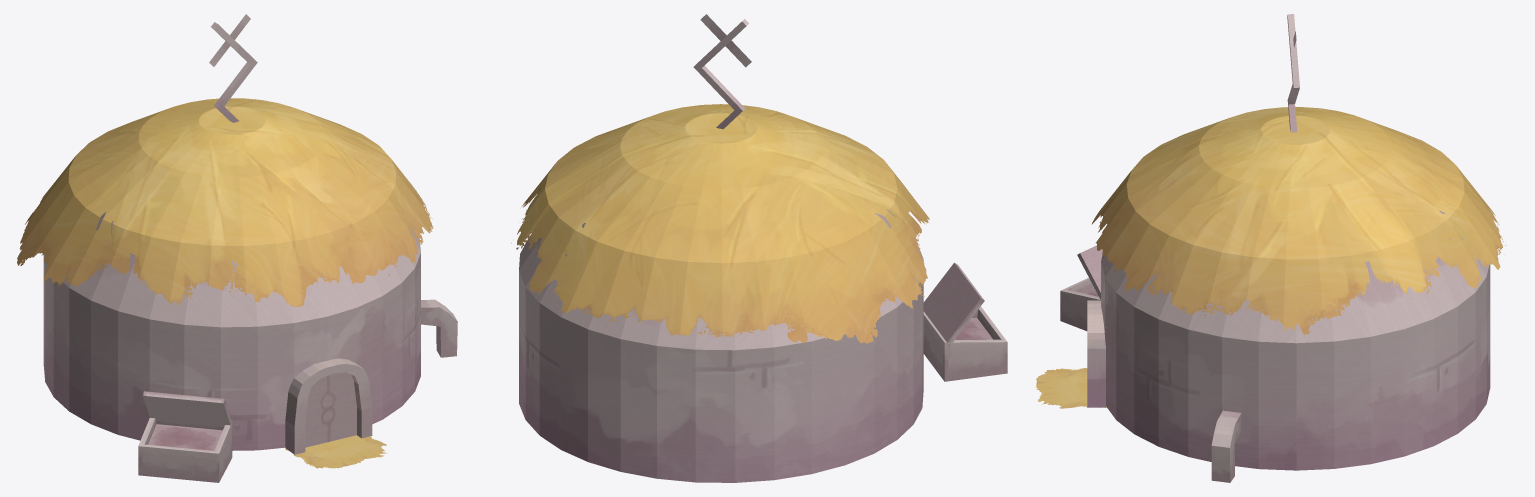
Rendered from building_hut.fbx.
The picture shows the model from 3 angles, left to right: view 1: azimuth 30°, elevation 25°; view 2: azimuth 150°, elevation 25°; view 3: azimuth 270°, elevation 25°; orthographic projection. The views are drawn at different scales.
Visible parts, largest first — view 1: Cube.003; view 2: Cube.003; view 3: Cube.003.
Boxes of the visible parts, x1=… form: Cube.003: x1=17, y1=14, x2=457, y2=482; Cube.003: x1=511, y1=14, x2=1007, y2=482; Cube.003: x1=1036, y1=14, x2=1506, y2=482.
Size of the model in its own units: 1420 by 1271 by 1528.
